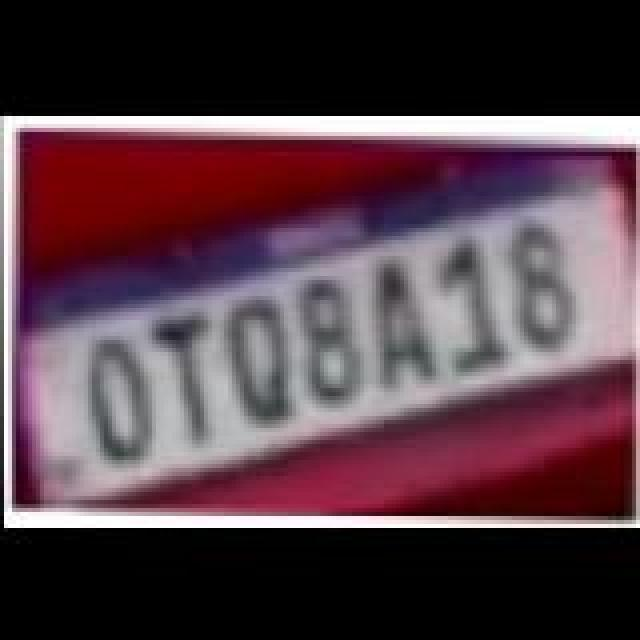1: (438, 238, 510, 370)
8: (294, 274, 366, 406), (512, 218, 580, 350)
A: (372, 258, 440, 390)
O: (82, 336, 154, 464)
Q: (226, 294, 298, 426)
T: (150, 308, 222, 444)
